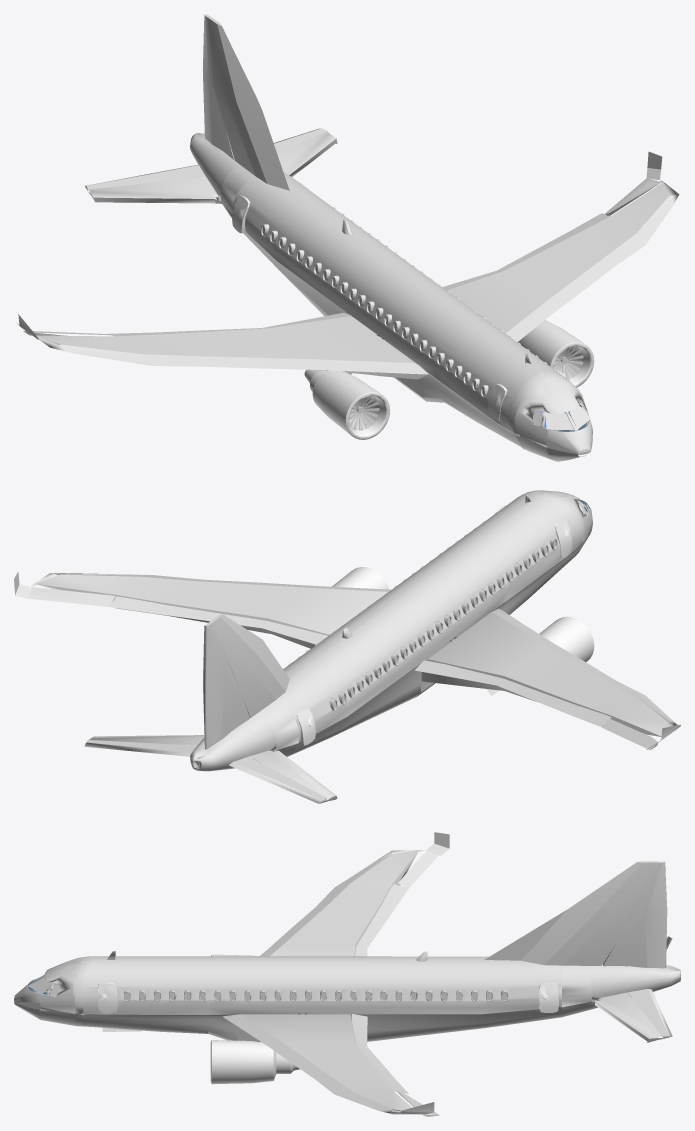
File: airbus-a320.glb
3 views of the same model, one above another, from view 1: azimuth 30°, elevation 25°; view 2: azimuth 150°, elevation 25°; view 3: azimuth 270°, elevation 25° (orthographic). The views are drawn at different scales.
Visible parts, largest first — view 1: Body; view 2: Body; view 3: Body.
Boxes of the visible parts, bbox=[...] form: Body: bbox=[16, 14, 679, 461]; Body: bbox=[14, 490, 680, 803]; Body: bbox=[14, 832, 680, 1116].
Bounding box in the file's own units: 12.43 × 3.82 × 12.99.
Materials: 10 (10 with a texture image).
